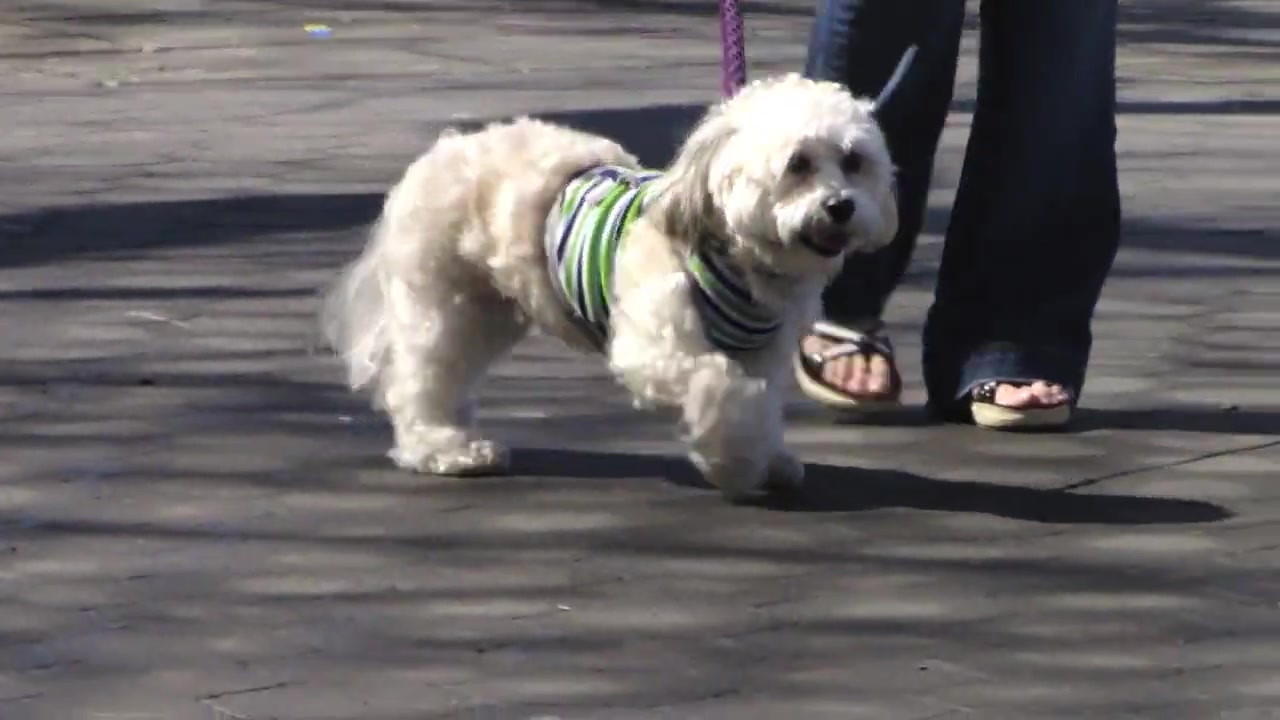dog: (318, 71, 902, 505)
